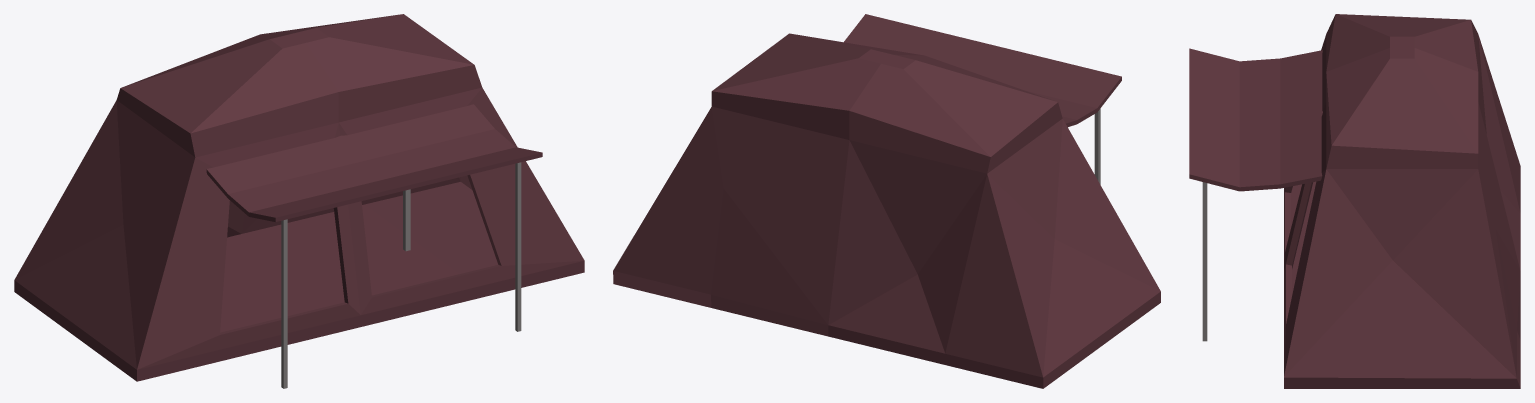
The model's file is tent-big-roof.fbx.
3 renders of one model, left to right at view 1: azimuth 30°, elevation 25°; view 2: azimuth 150°, elevation 25°; view 3: azimuth 270°, elevation 25°, orthographic. The views are drawn at different scales.
Parts seen in each view (by area): view 1: tent-big-roof; view 2: tent-big-roof; view 3: tent-big-roof.
Part boxes in pixels (x1,y1,x2,y2): tent-big-roof: (14,14,584,388); tent-big-roof: (613,14,1160,388); tent-big-roof: (1189,14,1520,388).
Bounding box in the file's own units: 4.79 × 2.5 × 3.16.
